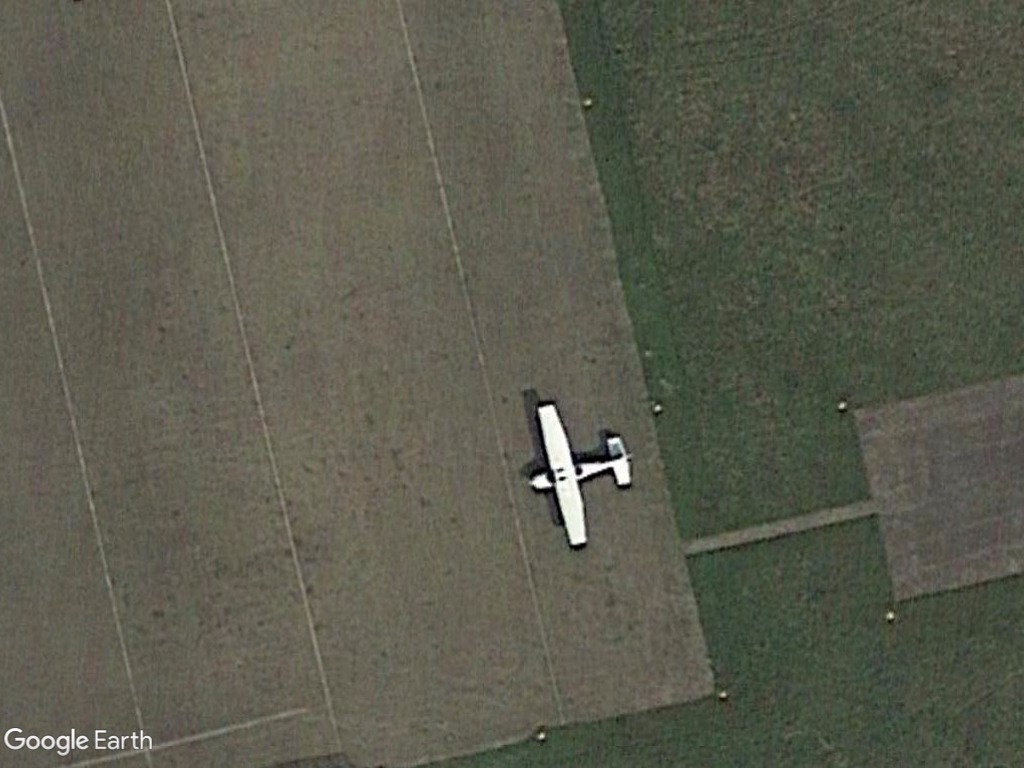trainer: (520, 390, 638, 563)
